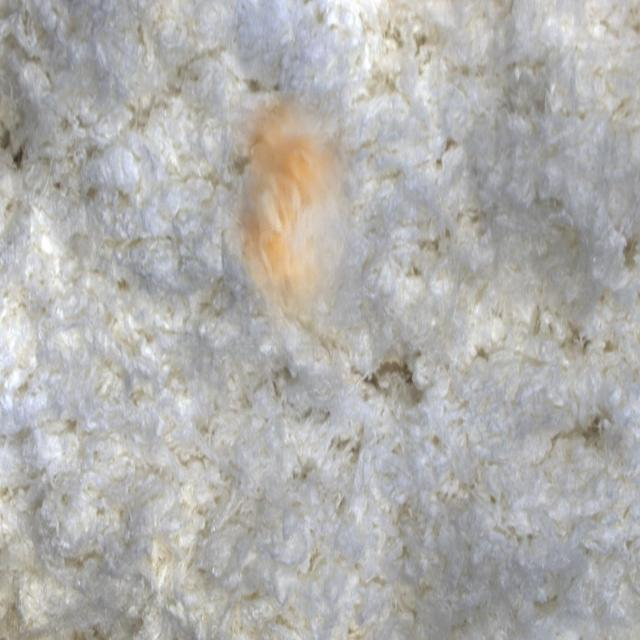dust: (221, 91, 361, 345)
